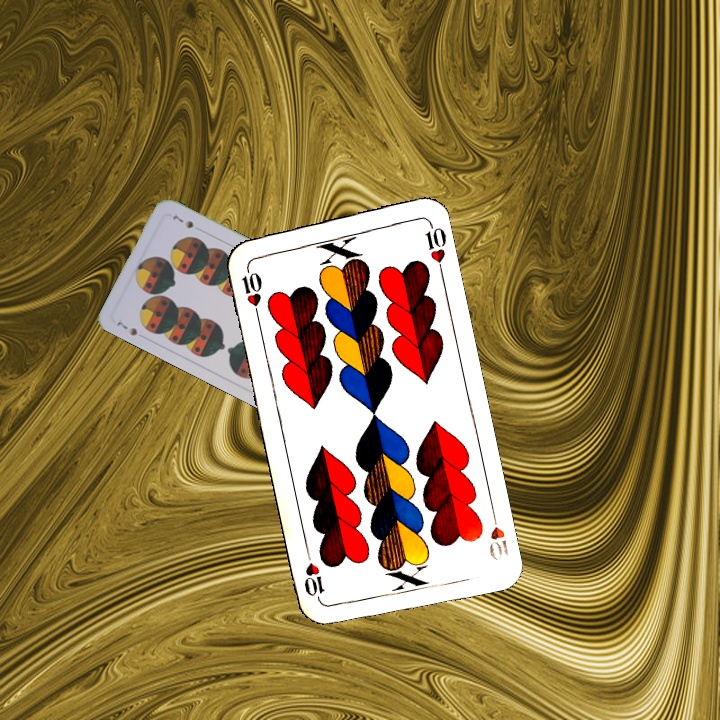H10: (238, 260, 265, 319), (485, 505, 511, 564)
S7: (113, 315, 140, 338)
